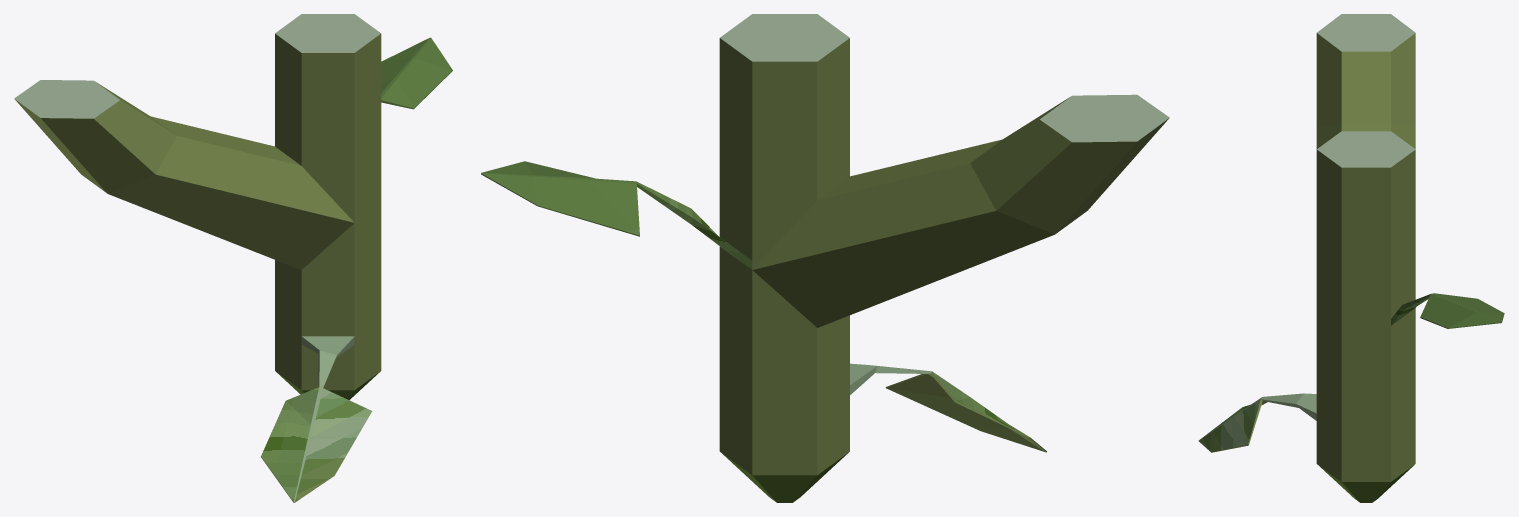
File: Stem-Tjunc-01.fbx
The picture shows the model from 3 angles, left to right: view 1: azimuth 30°, elevation 25°; view 2: azimuth 150°, elevation 25°; view 3: azimuth 270°, elevation 25°; orthographic projection. The views are drawn at different scales.
Visible parts, largest first — view 1: Stem-Tjunc-01; view 2: Stem-Tjunc-01; view 3: Stem-Tjunc-01.
Part boxes in pixels (x1,y1,x2,y2): Stem-Tjunc-01: [14, 14, 452, 502]; Stem-Tjunc-01: [481, 14, 1169, 502]; Stem-Tjunc-01: [1198, 14, 1504, 502].
Size of the model in its own units: 73.86 by 55.54 by 44.12.
Materials: 1 (1 with a texture image).
